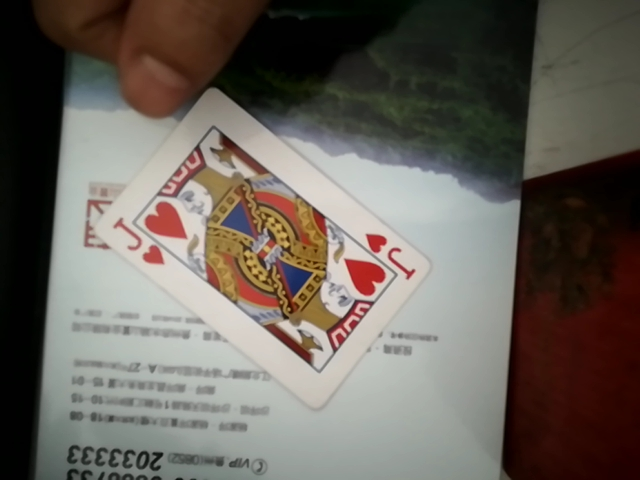hx j: (67, 86, 461, 403)
